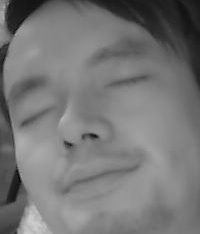blink: (105, 70, 146, 95), (21, 106, 57, 128)
mouth: (54, 157, 141, 206)
